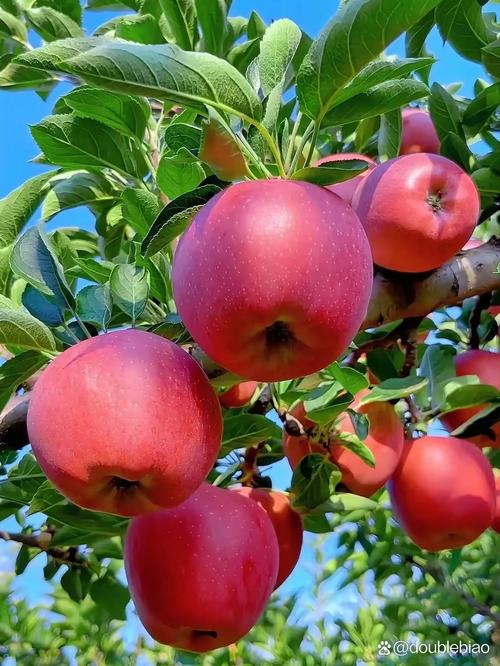ripe: (172, 167, 367, 384), (15, 319, 211, 522), (124, 481, 282, 658), (345, 151, 486, 280), (272, 389, 401, 498), (384, 433, 500, 552)
